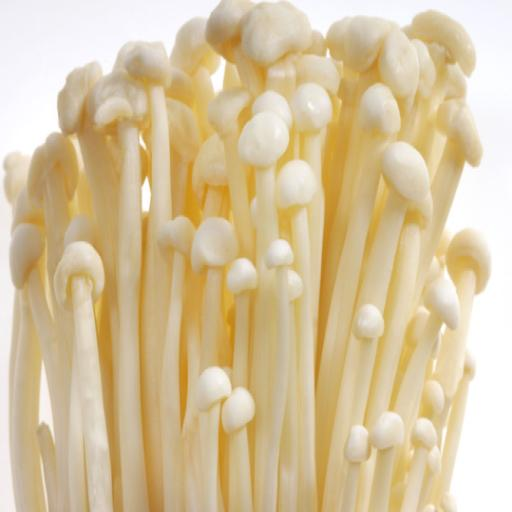Enoki Mushroom: (1, 0, 512, 486)
